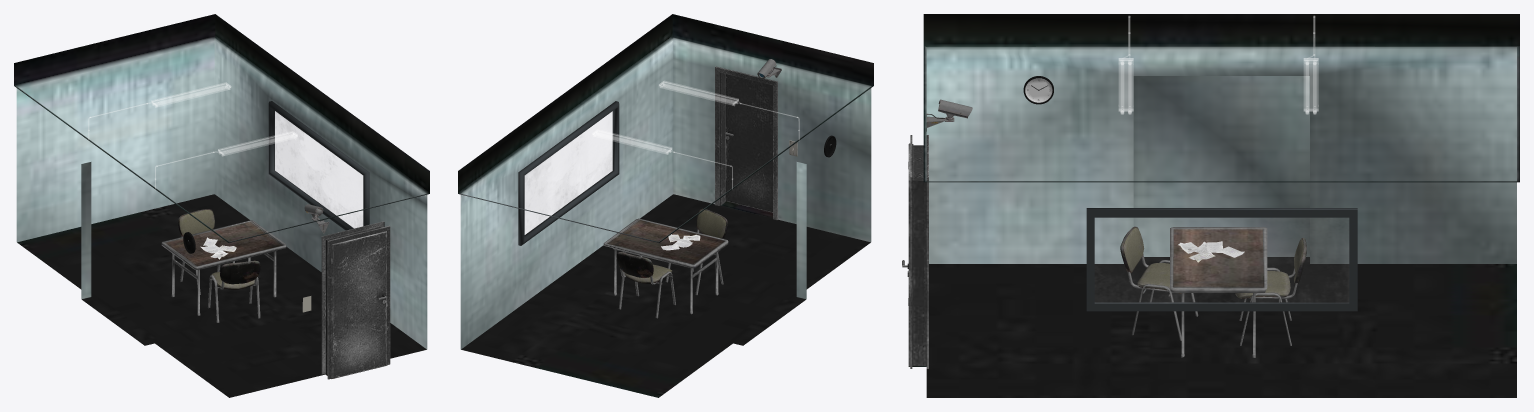
Rendered from z_interrog.glb.
3 renders of one model, left to right at view 1: azimuth 30°, elevation 25°; view 2: azimuth 150°, elevation 25°; view 3: azimuth 270°, elevation 25°, orthographic. The views are drawn at different scales.
Parts seen in each view (by area): view 1: Walls, Door, Window, Table, Chair, Chair.001, Neon_Tubes, Neon_Tubes.001, Papers; view 2: Walls, Door, Window, Table, Chair.001, Chair, Neon_Tubes.001, Neon_Tubes, Papers; view 3: Walls, Window, Table, Door, Chair, Chair.001, Neon_Tubes, Neon_Tubes.001, Papers, Watch, Surveillance Camera.
Part boxes in pixels (bbox=[...]): Walls: bbox=[14, 14, 429, 397]; Door: bbox=[321, 221, 390, 379]; Window: bbox=[268, 101, 369, 230]; Table: bbox=[161, 220, 286, 315]; Chair: bbox=[208, 260, 260, 322]; Chair.001: bbox=[178, 209, 234, 294]; Neon_Tubes: bbox=[155, 131, 297, 188]; Neon_Tubes.001: bbox=[88, 82, 230, 139]; Papers: bbox=[200, 237, 236, 259]; Walls: bbox=[458, 14, 873, 397]; Door: bbox=[715, 66, 777, 219]; Window: bbox=[518, 101, 619, 245]; Table: bbox=[603, 218, 728, 314]; Chair.001: bbox=[616, 252, 675, 318]; Chair: bbox=[665, 208, 727, 295]; Neon_Tubes.001: bbox=[592, 129, 732, 188]; Neon_Tubes: bbox=[659, 81, 799, 139]; Papers: bbox=[661, 234, 700, 250]; Walls: bbox=[908, 14, 1519, 397]; Window: bbox=[1086, 208, 1357, 311]; Table: bbox=[1170, 227, 1267, 357]; Door: bbox=[902, 135, 928, 368]; Chair: bbox=[1120, 226, 1198, 340]; Chair.001: bbox=[1235, 238, 1306, 345]; Neon_Tubes: bbox=[1119, 16, 1133, 114]; Neon_Tubes.001: bbox=[1304, 16, 1318, 114]; Papers: bbox=[1178, 241, 1244, 262]; Watch: bbox=[1023, 76, 1053, 104]; Surveillance Camera: bbox=[926, 99, 972, 131].
Size of what is drawn, in the model's own units: 337 by 275 by 620.
10 materials, 10 textured.
